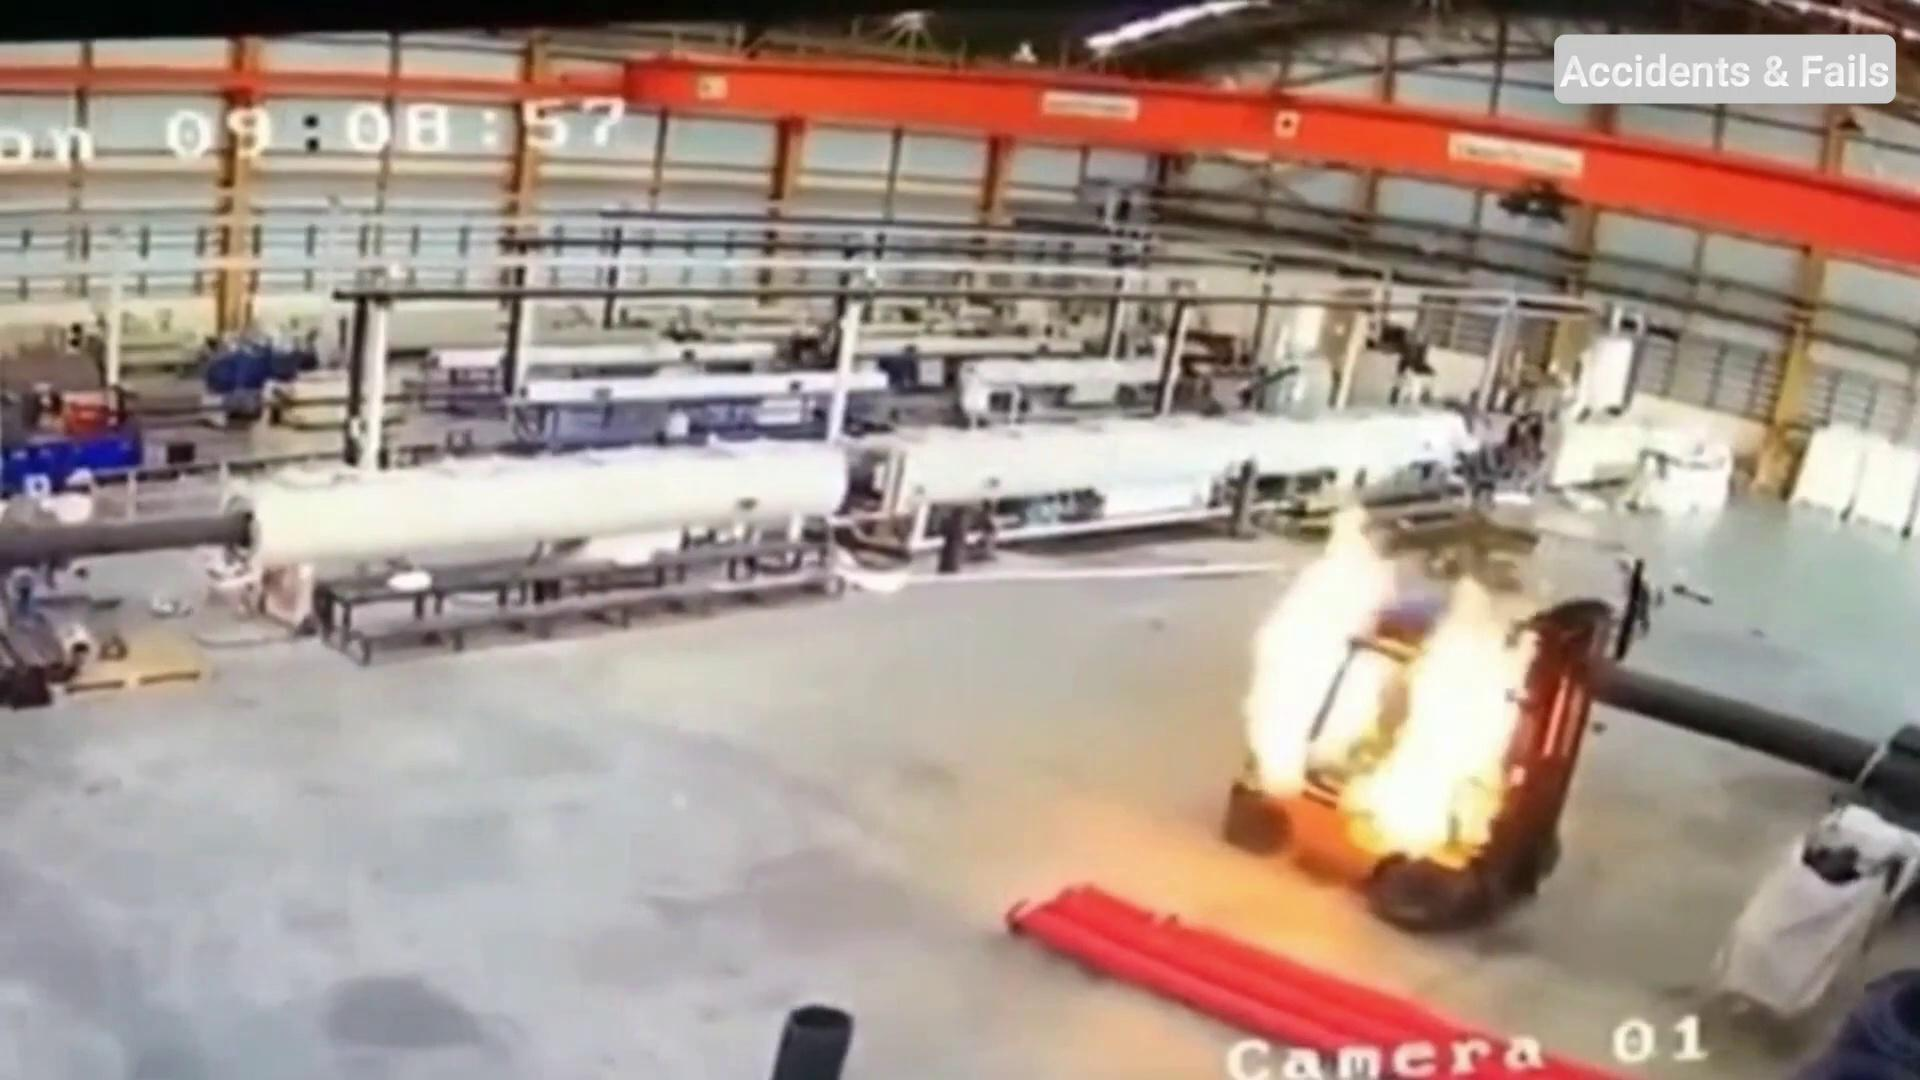fire: (1120, 438, 1727, 972)
